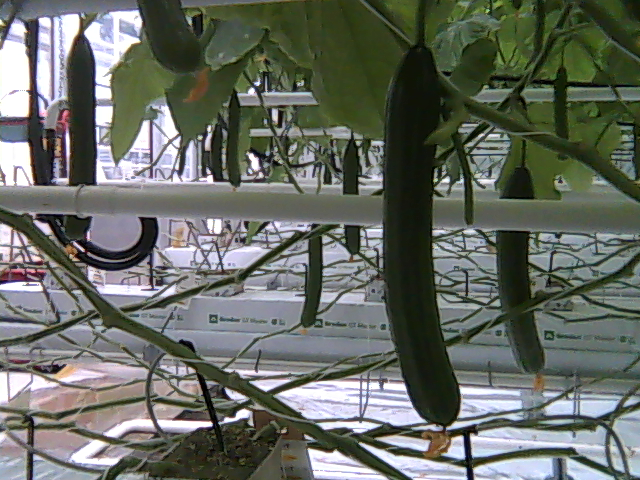concombre: (380, 31, 465, 462), (134, 1, 205, 76)
